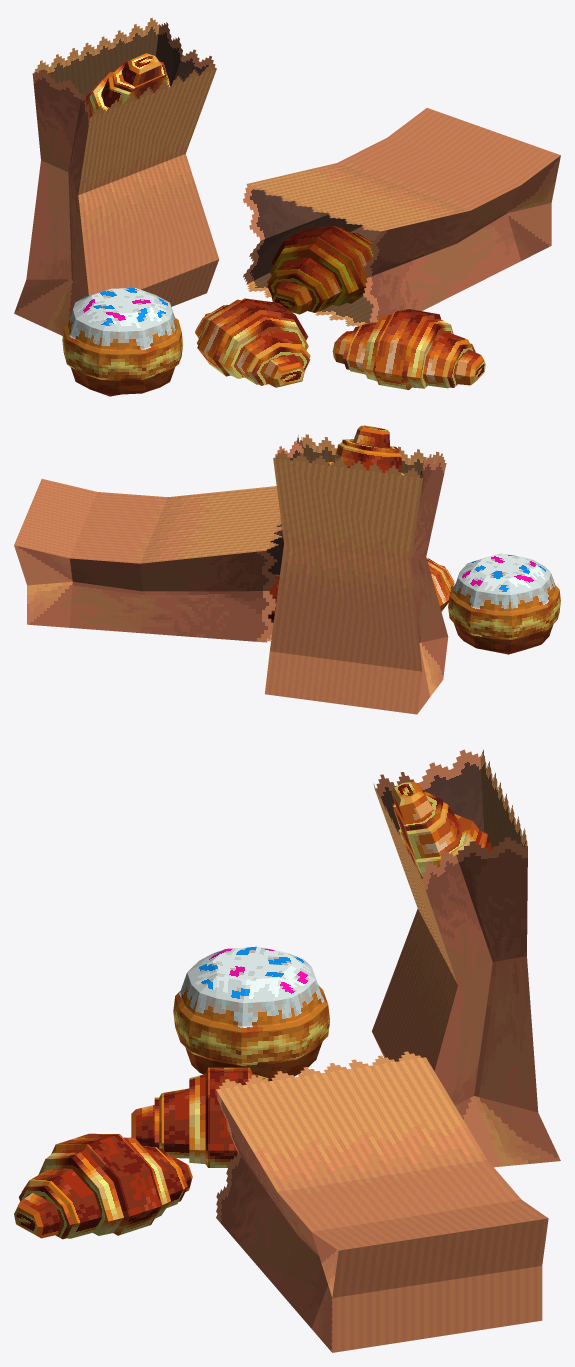
3 renders of one model, top to bottom at view 1: azimuth 30°, elevation 25°; view 2: azimuth 150°, elevation 25°; view 3: azimuth 270°, elevation 25°, orthographic. The views are drawn at different scales.
Parts seen in each view (by area): view 1: cube (×18); view 2: cube (×8); view 3: cube (×14).
Boxes of the visible parts, x1,y1,x2,y2 form: cube (×18): (14, 17, 560, 396); cube (×8): (14, 425, 560, 714); cube (×14): (14, 749, 560, 1352).
Size of the model in its own units: 10.41 by 4.99 by 7.34.
Materials: 5 (5 with a texture image).
